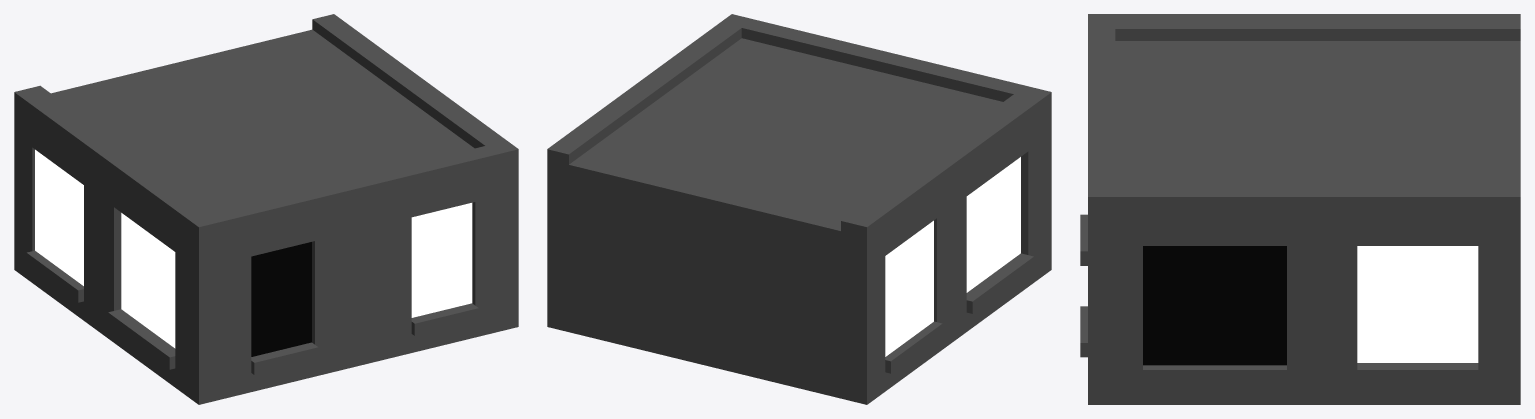
File: Immeuble1Haut4.fbx
3 views of the same model, side by side, from view 1: azimuth 30°, elevation 25°; view 2: azimuth 150°, elevation 25°; view 3: azimuth 270°, elevation 25° (orthographic). The views are drawn at different scales.
Visible parts, largest first — view 1: Cube.027; view 2: Cube.027; view 3: Cube.027.
Boxes of the visible parts, x1,y1,x2,y2 form: Cube.027: (14, 14, 518, 404); Cube.027: (547, 14, 1051, 404); Cube.027: (1080, 14, 1520, 404).
Bounding box in the file's own units: 2061 × 1062 × 2036.
